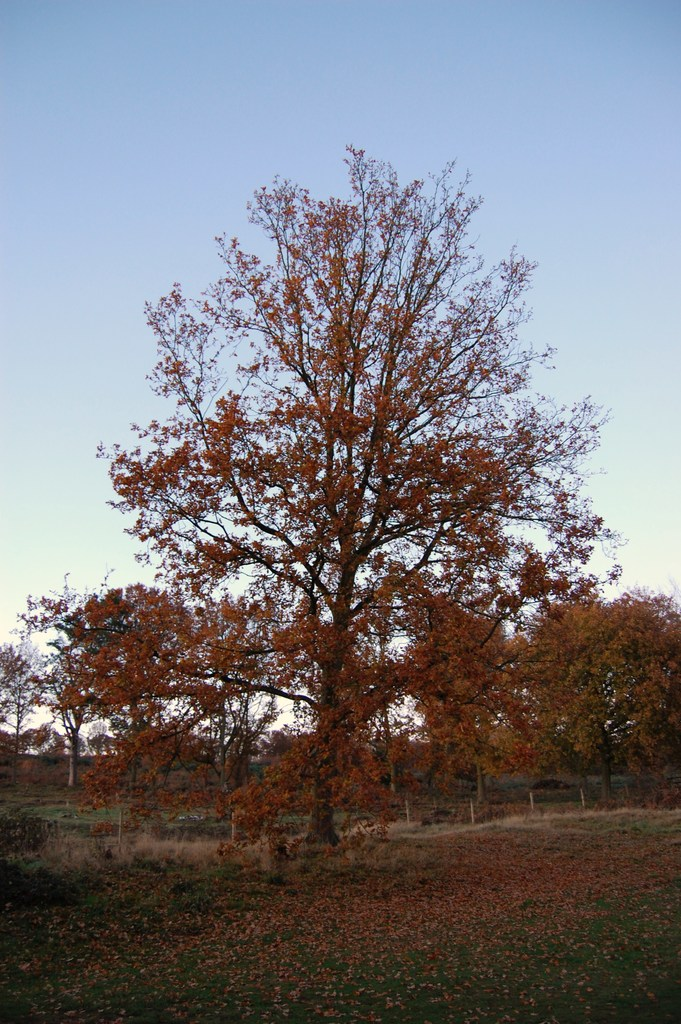Tree: (55, 151, 634, 840), (618, 588, 680, 810), (0, 636, 49, 790)
